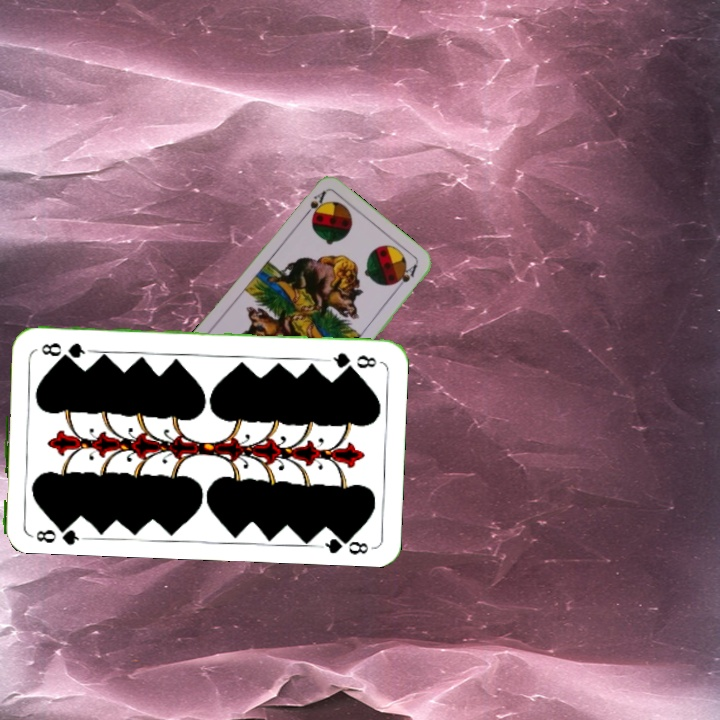G8: (26, 519, 85, 546), (323, 349, 379, 371)
SA: (298, 187, 329, 222)
